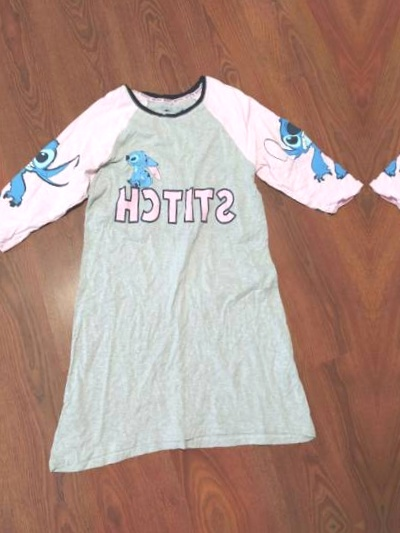Dress: (0, 58, 371, 488), (371, 39, 400, 469)
